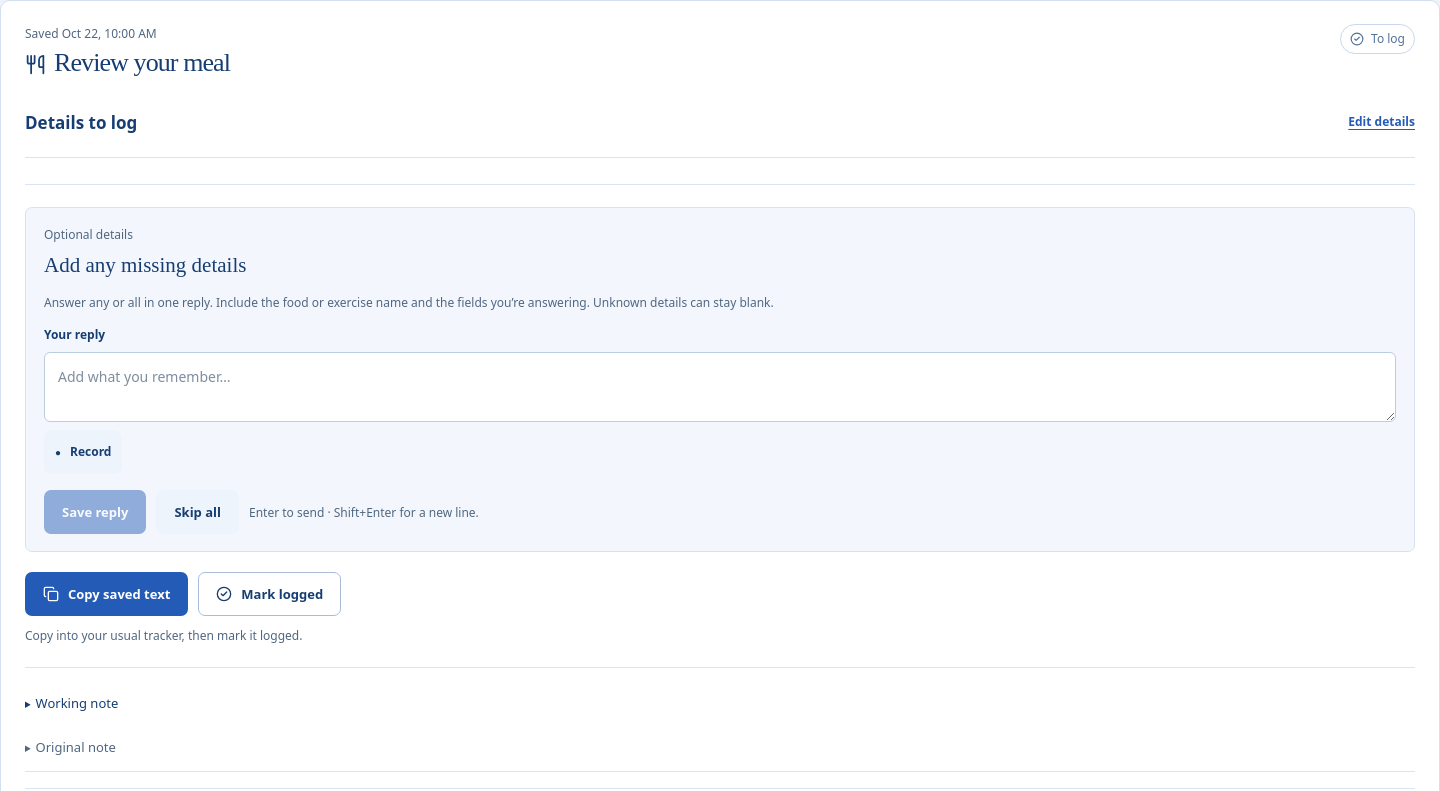
Test: reply submission immediately acknowledges Enter, blocks repeats and preserves failed drafts
This screenshot has width=1440, height=791.
Type "two eggs" into the text box labelled "Your reply".
click(720, 387); type("two eggs")  # box [44,352,1396,422]
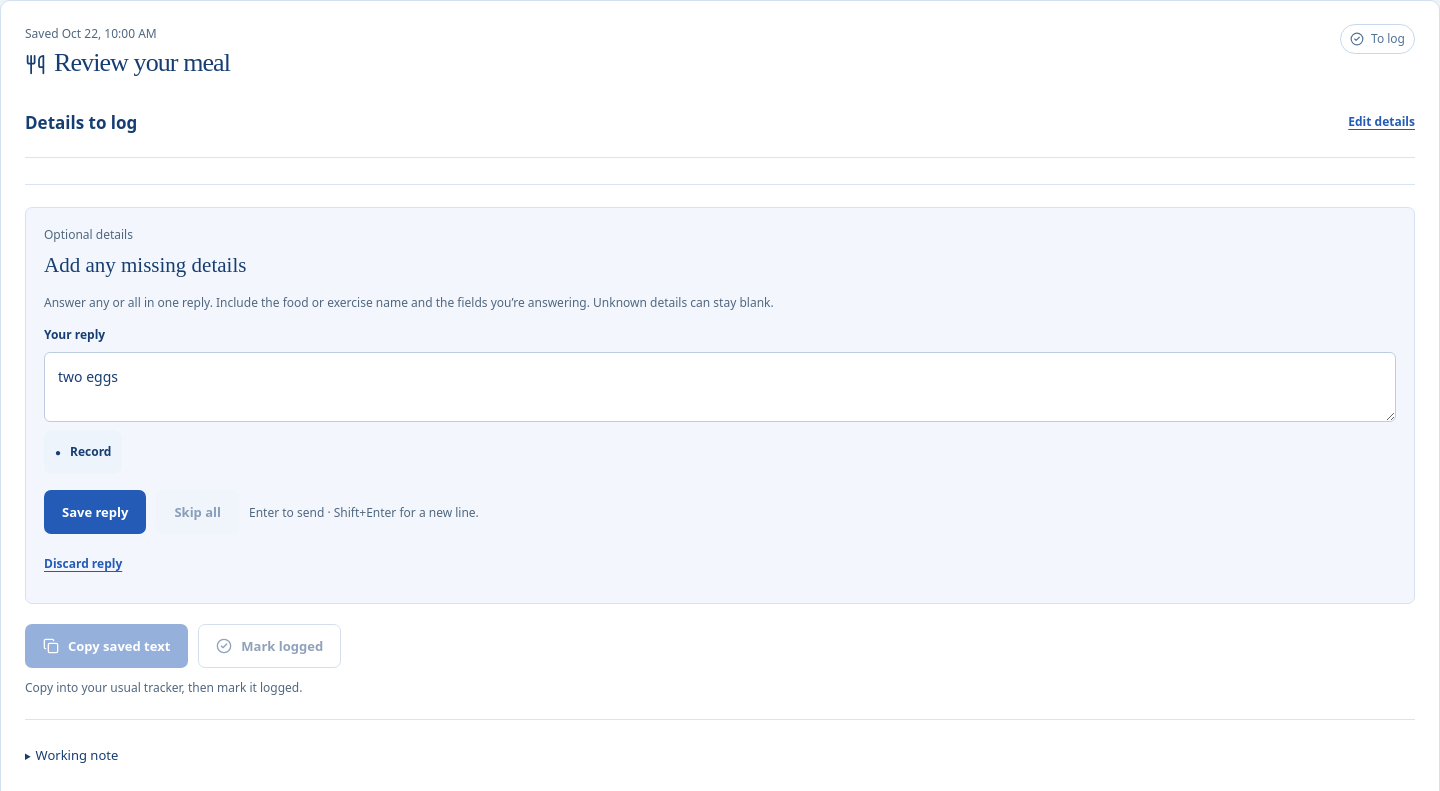
Press Enter in the text box labelled "Your reply", box [44,352,1396,422]
Press Enter in the text box labelled "Your reply", box [44,352,1396,422]
Press Enter in the text box labelled "Your reply", box [44,352,1396,422]
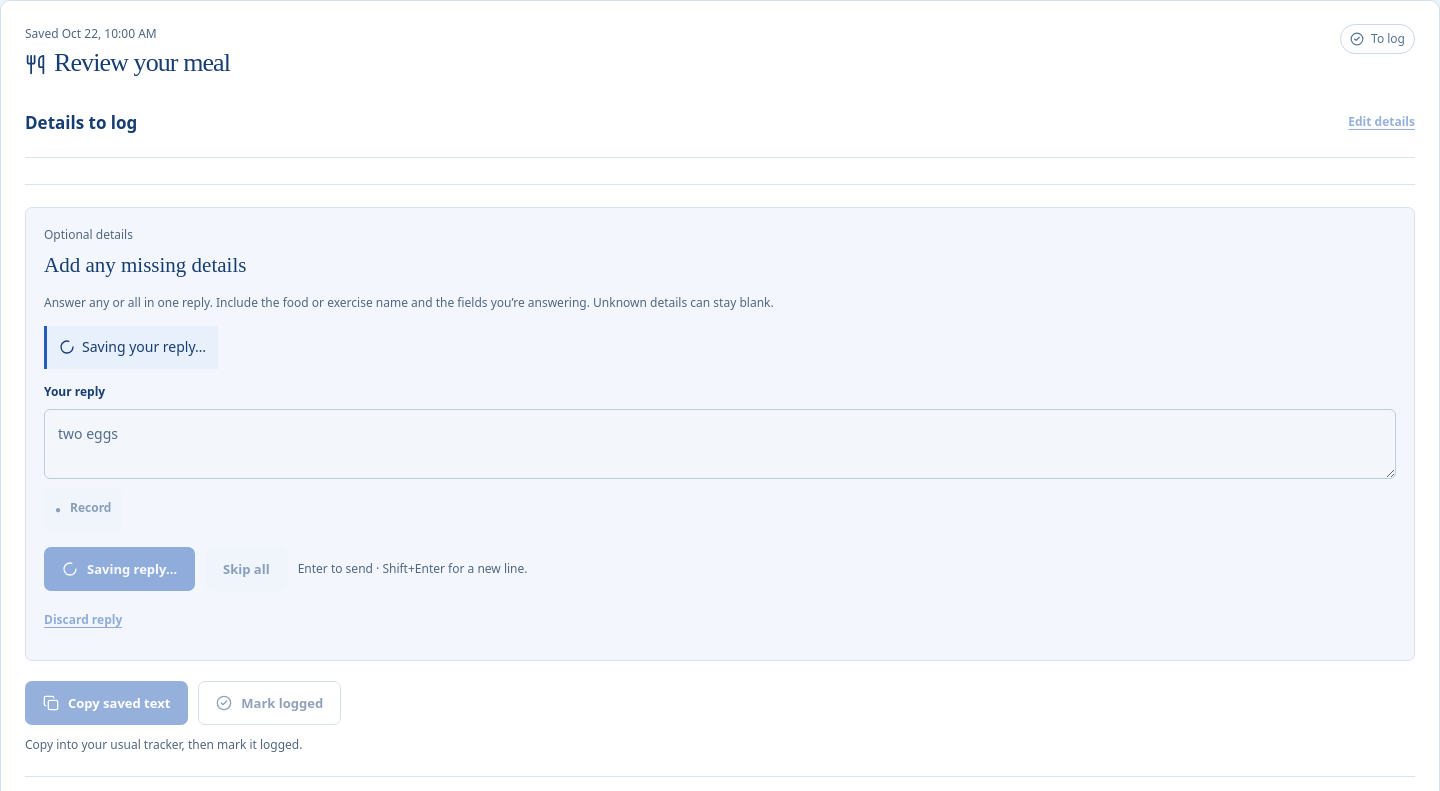
Now the button "Saving reply…" is disabled, box [44,547,195,591]
Now the text "Saving your reply…" is shown, box [44,326,218,369]
Press Enter in the text box labelled "Your reply", box [44,409,1396,479]
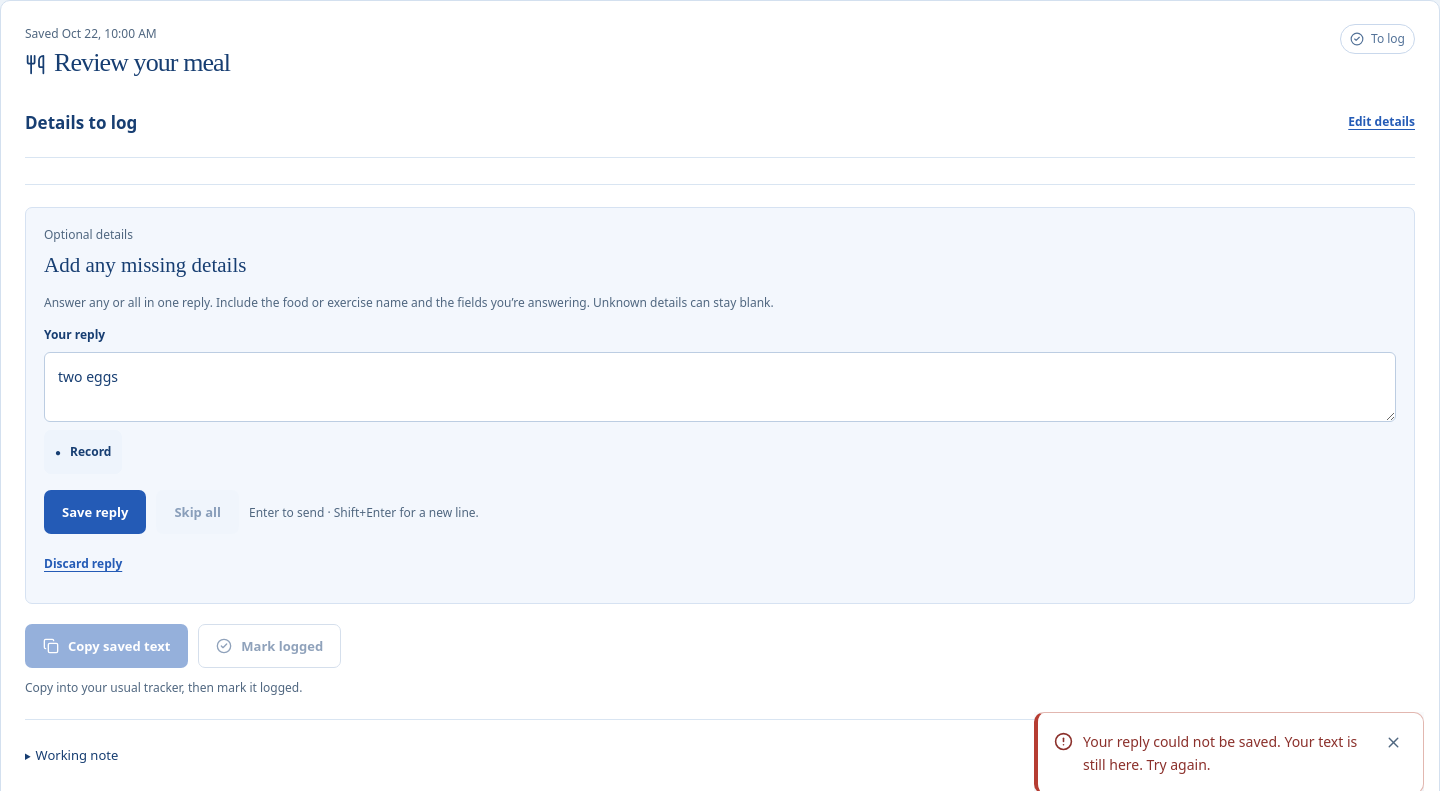
Now the button "Save reply" is enabled, box [44,490,146,534]
Now the message shows "could not be saved", box [1083,732,1357,774]
